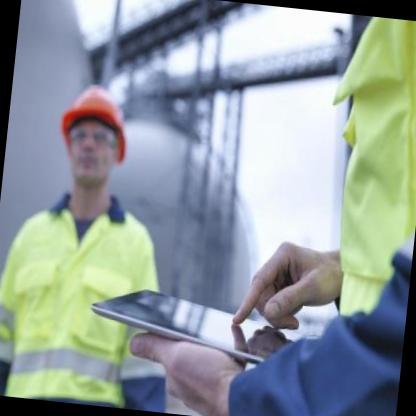helmet: (44, 66, 140, 210)
